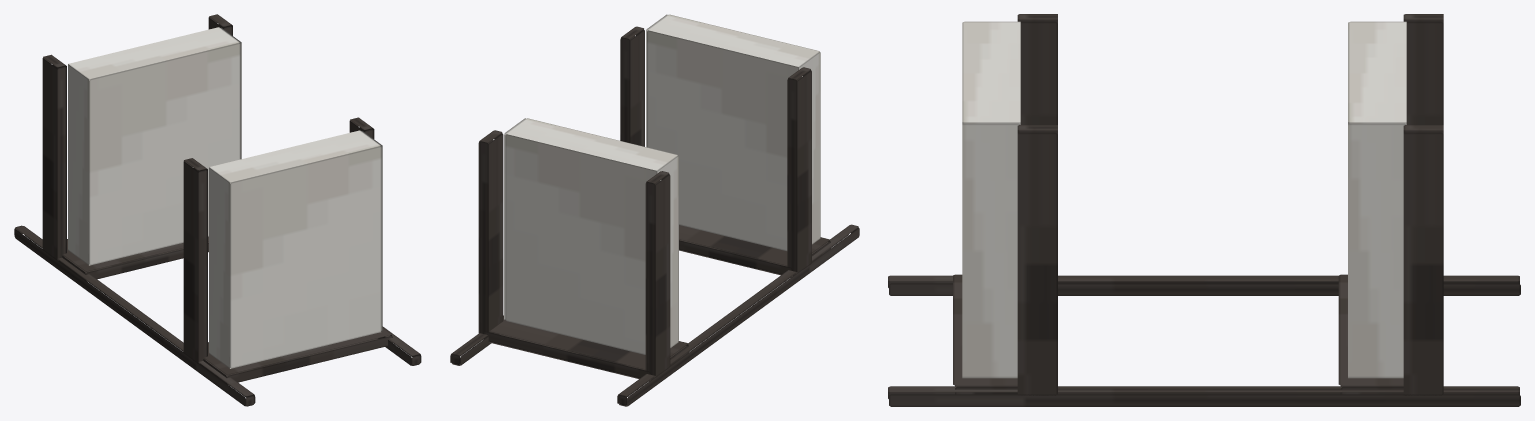
Rendered from pz_house_bunk_head.obj.
The picture shows the model from 3 angles, left to right: view 1: azimuth 30°, elevation 25°; view 2: azimuth 150°, elevation 25°; view 3: azimuth 270°, elevation 25°; orthographic projection. The views are drawn at different scales.
Parts seen in each view (by area): view 1: pz_house_bunk_head_|_7_colchao, pz_house_bunk_head_|_3_colchao, pz_house_bunk_head_|_5_estrutura_madeira, pz_house_bunk_head_|_9_estrutura_madeira, pz_house_bunk_head_|_1_estrutura_madeira, pz_house_bunk_head_|_8_estrutura_madeira, pz_house_bunk_head_|_4_estrutura_madeira, pz_house_bunk_head_|_2_estrutura_madeira; view 2: pz_house_bunk_head_|_3_colchao, pz_house_bunk_head_|_7_colchao, pz_house_bunk_head_|_5_estrutura_madeira, pz_house_bunk_head_|_6_estrutura_madeira, pz_house_bunk_head_|_9_estrutura_madeira, pz_house_bunk_head_|_4_estrutura_madeira, pz_house_bunk_head_|_1_estrutura_madeira, pz_house_bunk_head_|_8_estrutura_madeira, pz_house_bunk_head_|_10_estrutura_madeira, pz_house_bunk_head_|_2_estrutura_madeira; view 3: pz_house_bunk_head_|_3_colchao, pz_house_bunk_head_|_7_colchao, pz_house_bunk_head_|_2_estrutura_madeira, pz_house_bunk_head_|_6_estrutura_madeira, pz_house_bunk_head_|_10_estrutura_madeira, pz_house_bunk_head_|_1_estrutura_madeira, pz_house_bunk_head_|_5_estrutura_madeira, pz_house_bunk_head_|_9_estrutura_madeira, pz_house_bunk_head_|_4_estrutura_madeira, pz_house_bunk_head_|_8_estrutura_madeira.
Boxes of the visible parts, left/top/right/bottom form: pz_house_bunk_head_|_7_colchao: left=209, top=130, right=382, bottom=368; pz_house_bunk_head_|_3_colchao: left=68, top=27, right=241, bottom=265; pz_house_bunk_head_|_5_estrutura_madeira: left=42, top=54, right=66, bottom=260; pz_house_bunk_head_|_9_estrutura_madeira: left=183, top=158, right=207, bottom=363; pz_house_bunk_head_|_1_estrutura_madeira: left=14, top=225, right=255, bottom=406; pz_house_bunk_head_|_8_estrutura_madeira: left=200, top=327, right=392, bottom=384; pz_house_bunk_head_|_4_estrutura_madeira: left=59, top=236, right=208, bottom=281; pz_house_bunk_head_|_2_estrutura_madeira: left=378, top=326, right=421, bottom=365; pz_house_bunk_head_|_3_colchao: left=504, top=118, right=678, bottom=354; pz_house_bunk_head_|_7_colchao: left=646, top=14, right=820, bottom=250; pz_house_bunk_head_|_5_estrutura_madeira: left=645, top=171, right=670, bottom=377; pz_house_bunk_head_|_6_estrutura_madeira: left=478, top=130, right=503, bottom=333; pz_house_bunk_head_|_9_estrutura_madeira: left=787, top=67, right=811, bottom=273; pz_house_bunk_head_|_4_estrutura_madeira: left=483, top=316, right=688, bottom=381; pz_house_bunk_head_|_1_estrutura_madeira: left=617, top=224, right=859, bottom=406; pz_house_bunk_head_|_8_estrutura_madeira: left=679, top=225, right=830, bottom=277; pz_house_bunk_head_|_10_estrutura_madeira: left=620, top=26, right=644, bottom=146; pz_house_bunk_head_|_2_estrutura_madeira: left=450, top=315, right=503, bottom=365; pz_house_bunk_head_|_3_colchao: left=1348, top=21, right=1406, bottom=378; pz_house_bunk_head_|_7_colchao: left=962, top=21, right=1020, bottom=378; pz_house_bunk_head_|_2_estrutura_madeira: left=888, top=386, right=1520, bottom=406; pz_house_bunk_head_|_6_estrutura_madeira: left=1403, top=125, right=1443, bottom=395; pz_house_bunk_head_|_10_estrutura_madeira: left=1017, top=125, right=1057, bottom=395; pz_house_bunk_head_|_1_estrutura_madeira: left=888, top=275, right=1520, bottom=295; pz_house_bunk_head_|_5_estrutura_madeira: left=1403, top=14, right=1443, bottom=124; pz_house_bunk_head_|_9_estrutura_madeira: left=1017, top=14, right=1057, bottom=124; pz_house_bunk_head_|_4_estrutura_madeira: left=1338, top=274, right=1403, bottom=394; pz_house_bunk_head_|_8_estrutura_madeira: left=953, top=274, right=1017, bottom=394.
Size of the model in its own units: 0.9 by 0.985 by 2.05.
1 material, 1 textured.
